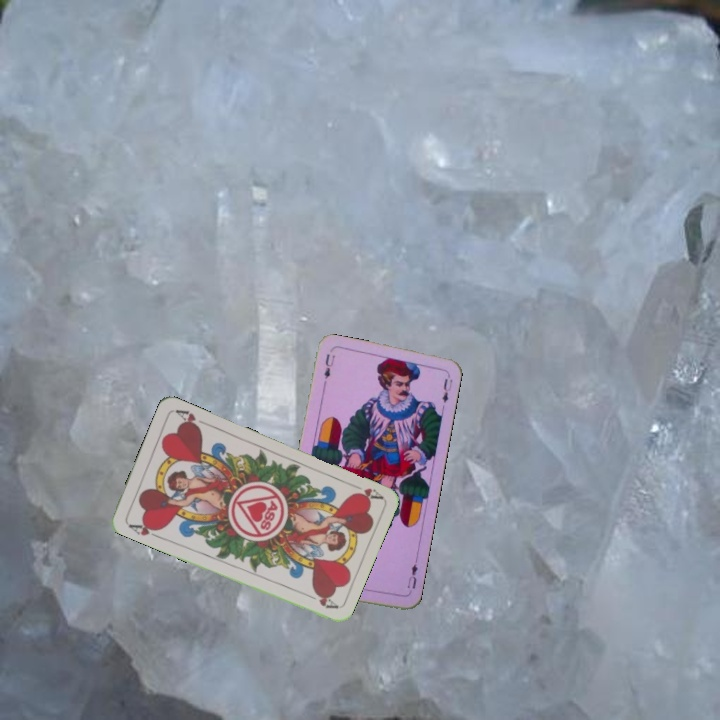EU: (403, 560, 420, 596), (320, 350, 337, 381)
HA: (345, 479, 384, 504), (124, 518, 163, 541)
